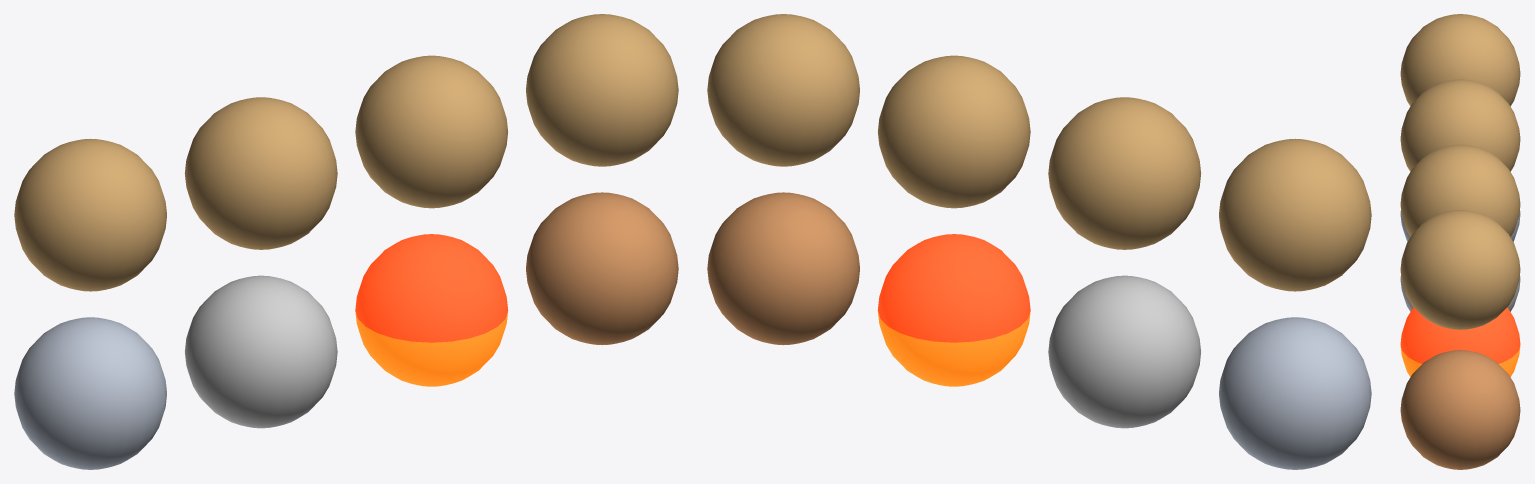
Rendered from material_balls.glb.
3 views of the same model, side by side, from view 1: azimuth 30°, elevation 25°; view 2: azimuth 150°, elevation 25°; view 3: azimuth 270°, elevation 25° (orthographic). The views are drawn at different scales.
Visible parts, largest first — view 1: C rough metal, F material AO, B smooth dielectric, G emissive, D smooth metal, E normalmapped, A rough dielectric, H generic matte; view 2: C rough metal, F material AO, B smooth dielectric, G emissive, D smooth metal, E normalmapped, A rough dielectric, H generic matte; view 3: D smooth metal, H generic matte, A rough dielectric, B smooth dielectric, C rough metal, G emissive, F material AO, E normalmapped.
Boxes of the visible parts, x1,y1,x2,y2 form: C rough metal: (355, 55, 507, 208); F material AO: (185, 275, 337, 428); B smooth dielectric: (184, 97, 337, 249); G emissive: (355, 234, 508, 386); D smooth metal: (526, 14, 678, 166); E normalmapped: (14, 317, 166, 469); A rough dielectric: (14, 138, 166, 291); H generic matte: (526, 192, 678, 345); C rough metal: (878, 55, 1030, 208); F material AO: (1048, 275, 1200, 428); B smooth dielectric: (1048, 97, 1201, 249); G emissive: (877, 234, 1030, 386); D smooth metal: (707, 14, 859, 166); E normalmapped: (1219, 317, 1371, 469); A rough dielectric: (1219, 138, 1371, 291); H generic matte: (707, 192, 859, 345); D smooth metal: (1400, 210, 1520, 329); H generic matte: (1400, 350, 1520, 469); A rough dielectric: (1400, 14, 1520, 106); B smooth dielectric: (1400, 79, 1520, 171); C rough metal: (1400, 144, 1520, 236); G emissive: (1400, 307, 1520, 376); F material AO: (1400, 276, 1520, 311); E normalmapped: (1400, 211, 1520, 241).
Size of the model in its own units: 6.42 by 3.02 by 1.32.
